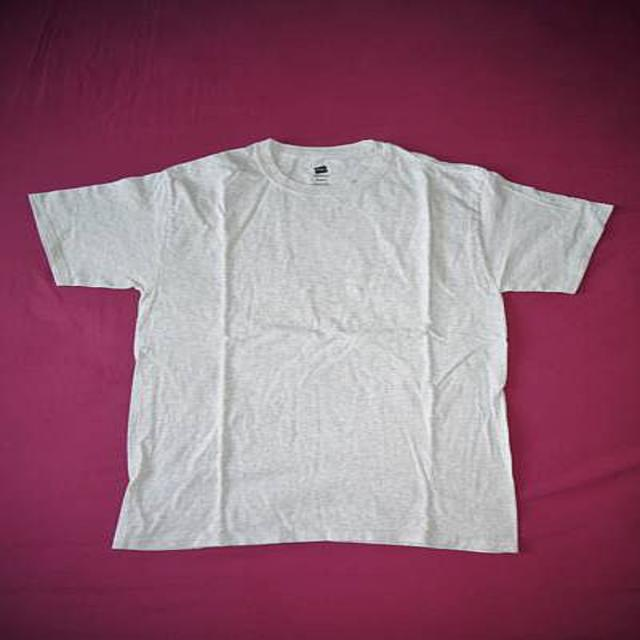T_SHIRT: (16, 126, 631, 566)
